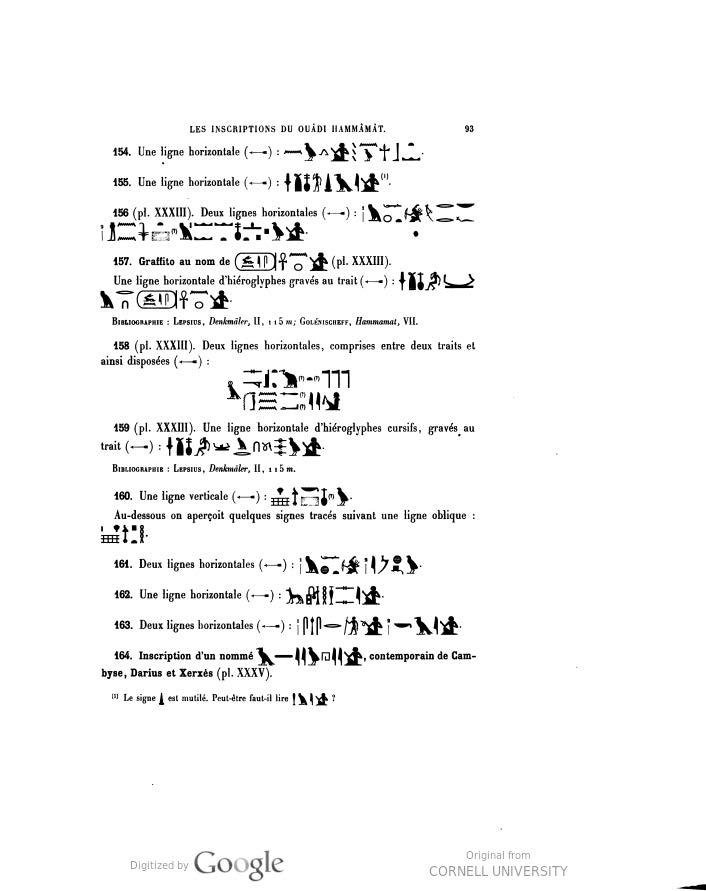circle: (135, 280, 191, 316), (232, 246, 285, 281)
